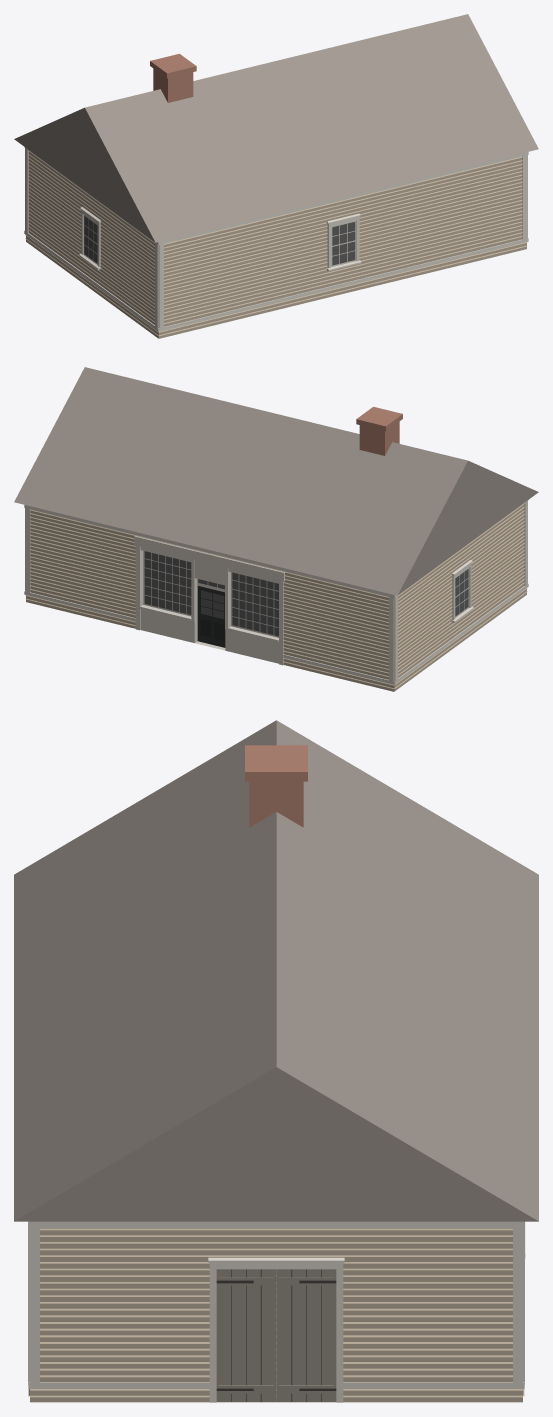
Rendered from chicago_american_office__frame_1835.glb.
3 views of the same model, one above another, from view 1: azimuth 30°, elevation 25°; view 2: azimuth 150°, elevation 25°; view 3: azimuth 270°, elevation 25° (orthographic). The views are drawn at different scales.
Visible parts, largest first — view 1: chicago_american_office__frame_1835; view 2: chicago_american_office__frame_1835; view 3: chicago_american_office__frame_1835.
Part boxes in pixels (x1,y1,x2,y2): chicago_american_office__frame_1835: [14, 14, 538, 338]; chicago_american_office__frame_1835: [14, 367, 538, 691]; chicago_american_office__frame_1835: [14, 720, 538, 1402].
Bounding box in the file's own units: 12.69 × 6.55 × 8.12.
